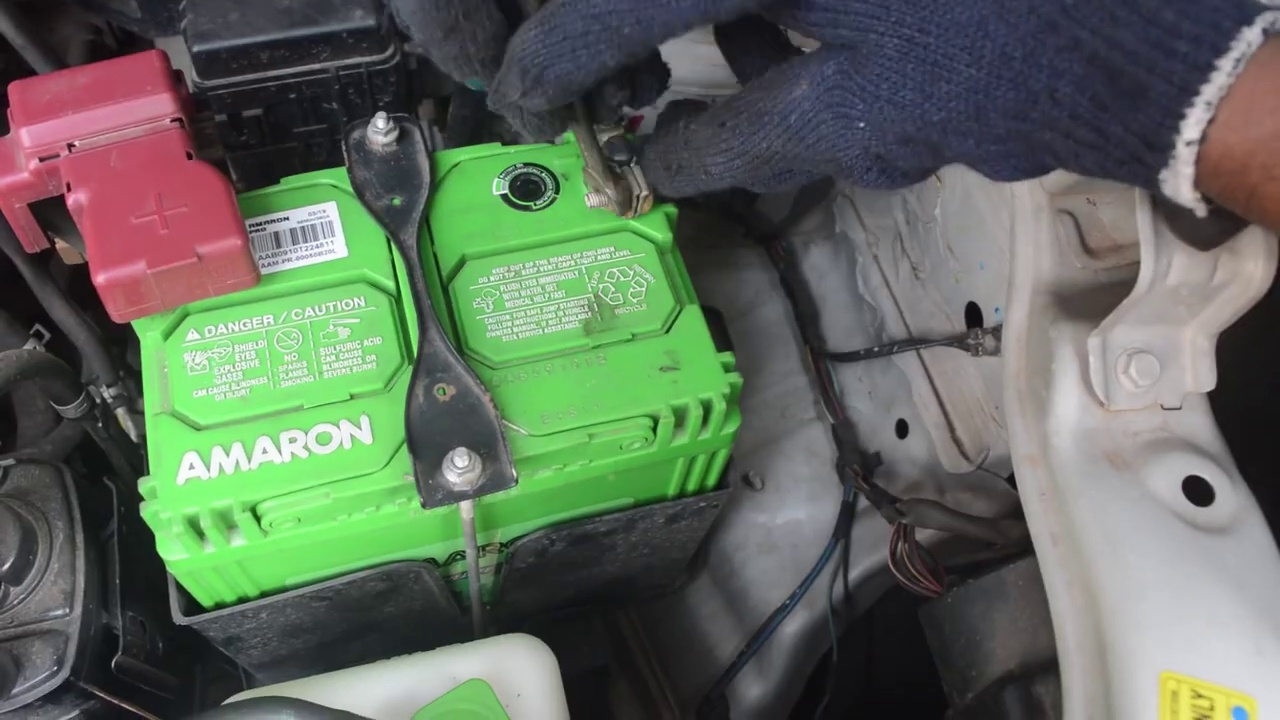battery: (121, 132, 752, 537)
neg_touched: (470, 18, 852, 228)
pos_connected: (47, 90, 276, 311)
